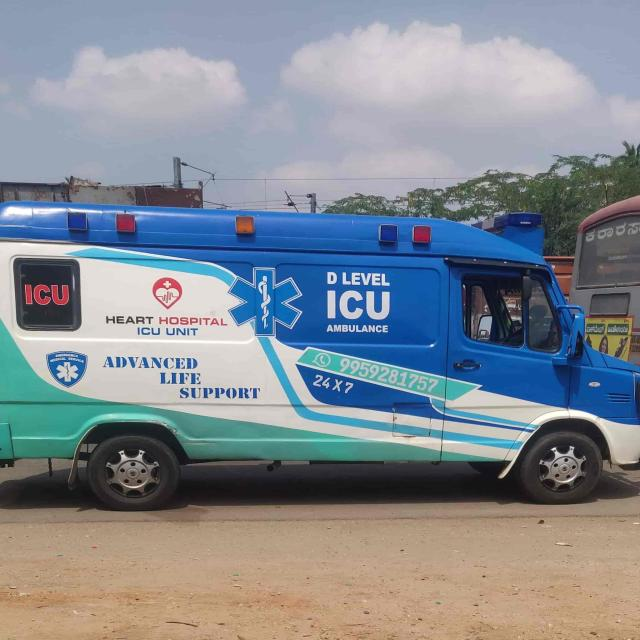emergency: (0, 202, 638, 510)
